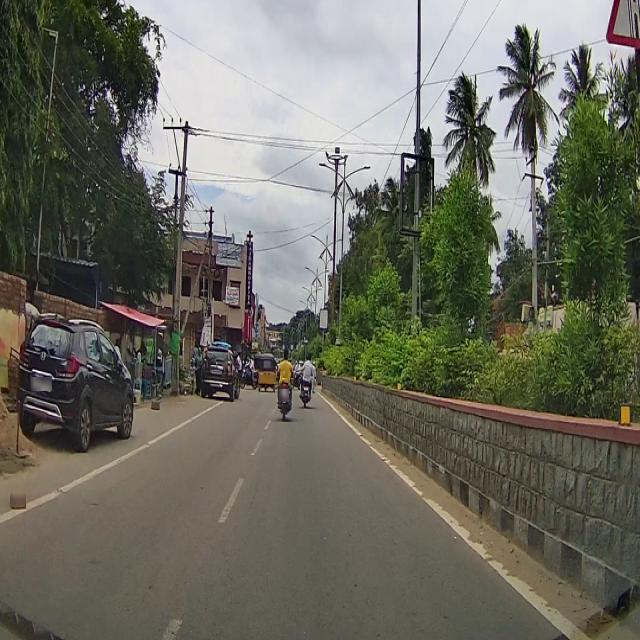gap-in-median: (603, 6, 640, 54)
